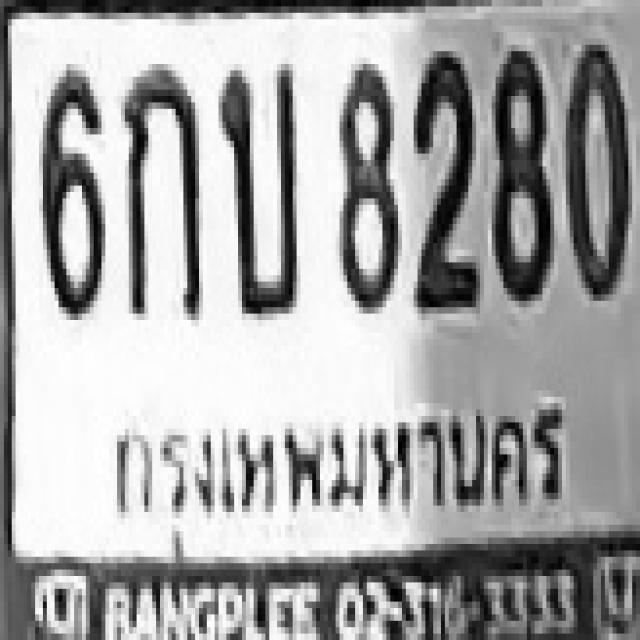0: (564, 38, 630, 301)
10GorGai: (121, 64, 199, 320)
2: (414, 51, 476, 307)
35BorBaiMai: (216, 58, 298, 314)
6: (39, 67, 105, 317)
8: (336, 58, 398, 307), (492, 45, 550, 301)
Bangkok: (101, 383, 575, 560)
